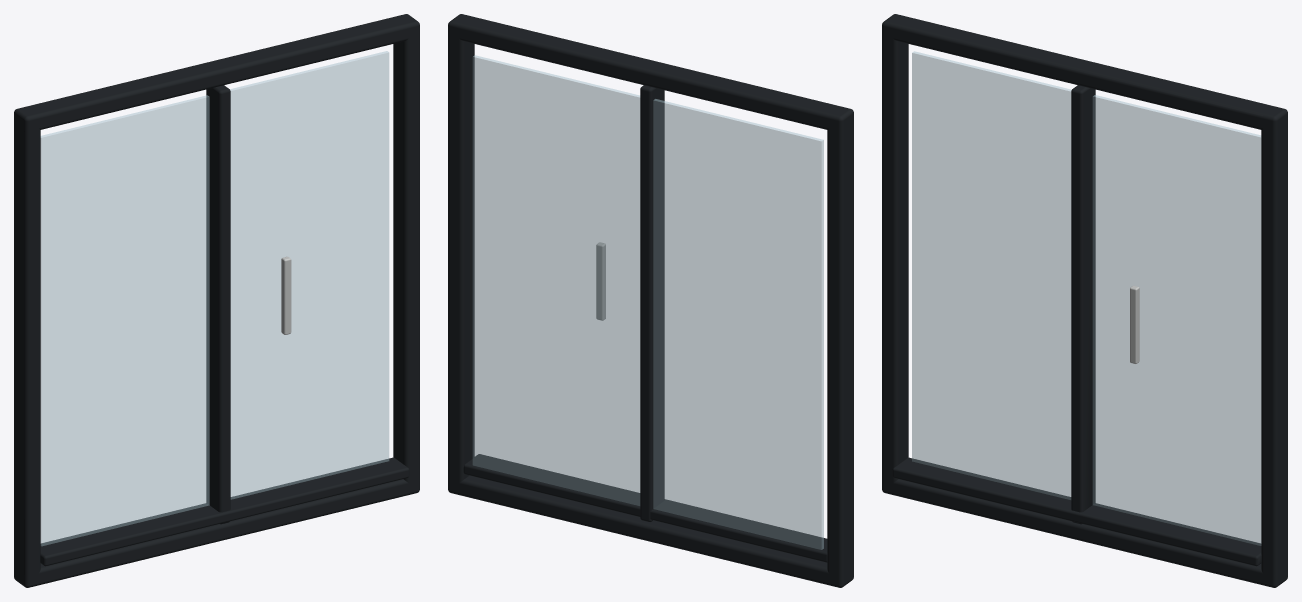
File: modern-sliding-glass-door.optimized.glb
3 views of the same model, side by side, from view 1: azimuth 30°, elevation 25°; view 2: azimuth 150°, elevation 25°; view 3: azimuth 330°, elevation 25° (orthographic).
Parts seen in each view (by area): view 1: left sliding door glass, right sliding door glass, sliding door frame top rail, flush pull; view 2: left sliding door glass, right sliding door glass, sliding door frame top rail, flush pull; view 3: right sliding door glass, left sliding door glass, sliding door frame top rail, flush pull.
Boxes of the visible parts, x1=… form: left sliding door glass: x1=40, y1=95, x2=209, y2=546; right sliding door glass: x1=230, y1=51, x2=389, y2=499; sliding door frame top rail: x1=14, y1=14, x2=419, y2=587; flush pull: x1=281, y1=256, x2=291, y2=334; left sliding door glass: x1=653, y1=99, x2=823, y2=549; right sliding door glass: x1=472, y1=55, x2=640, y2=505; sliding door frame top rail: x1=448, y1=14, x2=853, y2=587; flush pull: x1=596, y1=242, x2=605, y2=320; right sliding door glass: x1=1092, y1=95, x2=1261, y2=545; left sliding door glass: x1=912, y1=51, x2=1071, y2=499; sliding door frame top rail: x1=882, y1=14, x2=1287, y2=587; flush pull: x1=1130, y1=285, x2=1139, y2=363.
Bounding box in the file's own units: 1.86 × 2.12 × 0.15.
